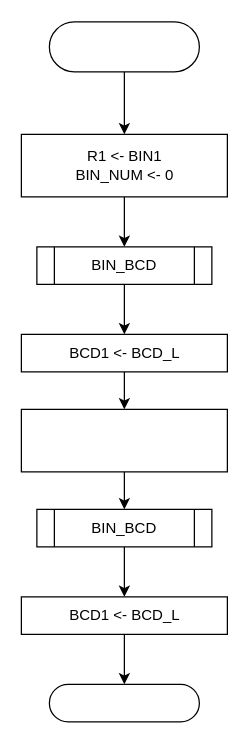
The diagram is 250 pixels wide and 744 high, and some of its shapes have lost their labels. Each missing label, with the centre of its shape:
CONV_BCD-BIN: (x=123, y=46)
R1 <- BIN2 BIN_NUM <- 1: (x=123, y=440)
REGRESA: (x=123, y=702)
